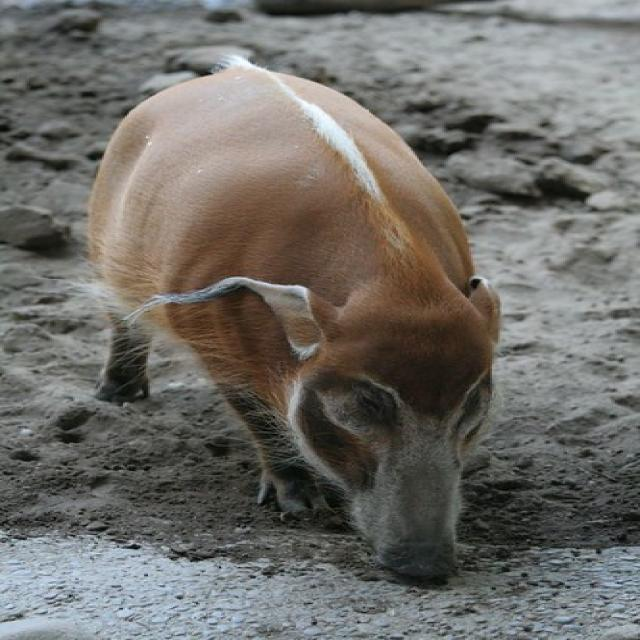boar: (53, 45, 541, 596)
